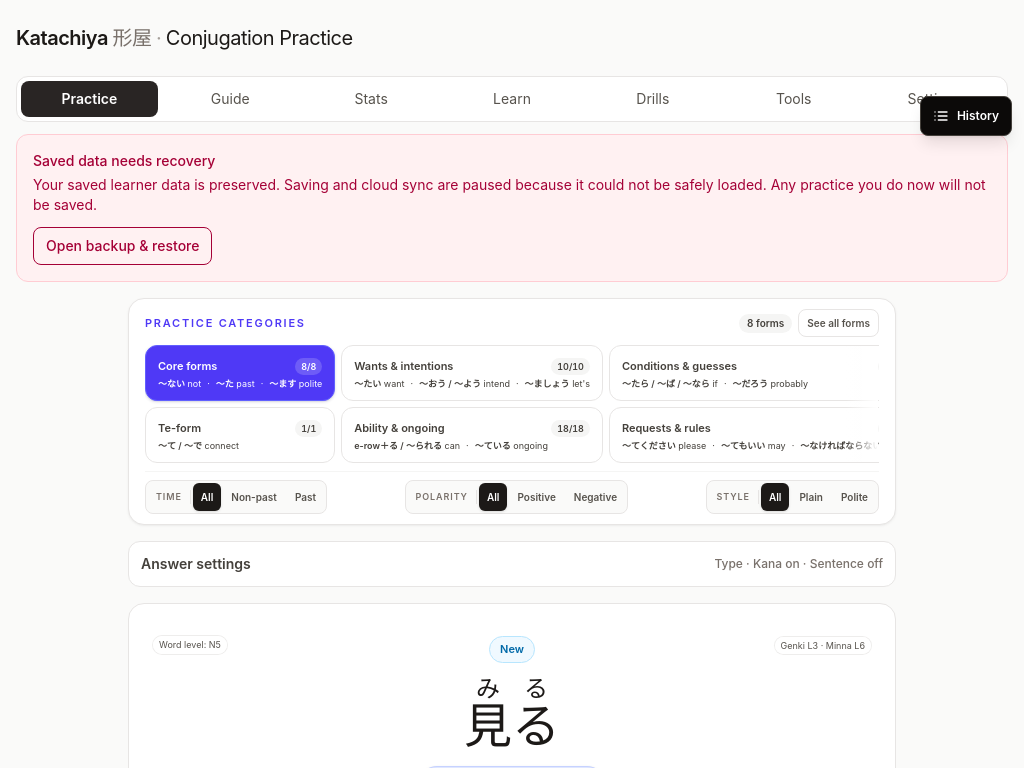
it: Settings backup and restore › announces paused saving across the app and opens recovery controls without overwriting unreadable data
Check: the message shows "Saved data needs recovery", box [33,152,215,169]
Check: the message shows "practice you do now will not be saved", box [33,176,986,213]
Click the button "Open backup & restore". click: (123, 246)
box: [33,227,212,265]
(page scrolled)
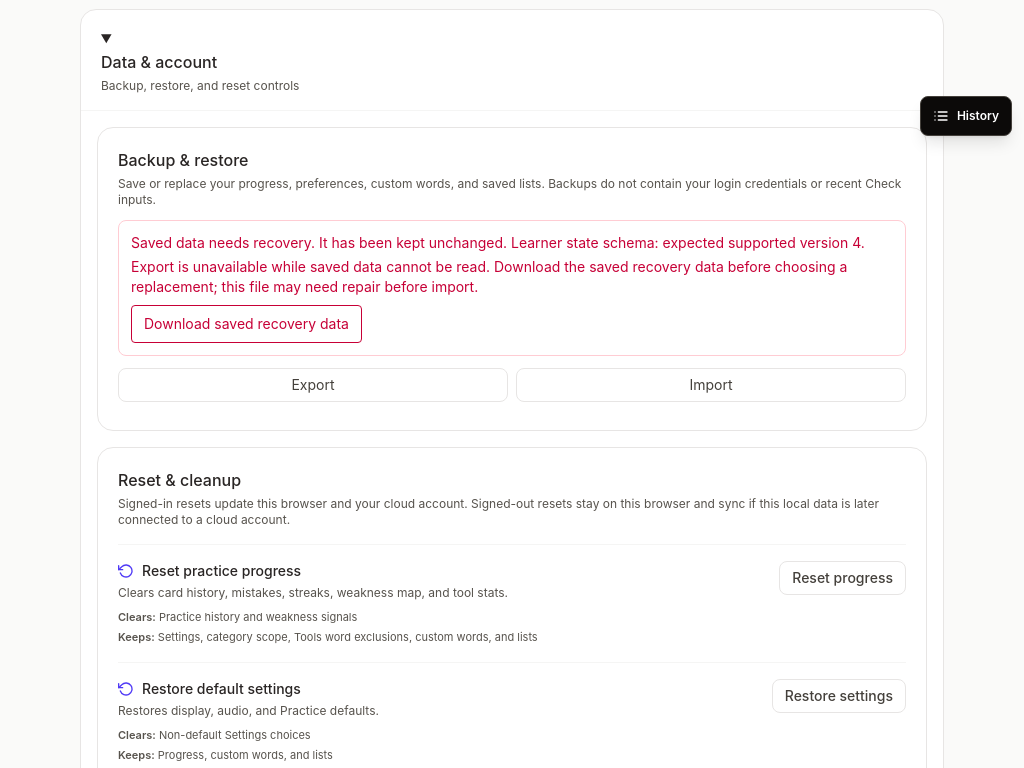
Check: the button "Export" is disabled, box [118,368,508,402]
Check: the button "Import" is enabled, box [516,368,906,402]
